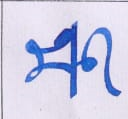i_matra: (92, 26, 123, 95)
